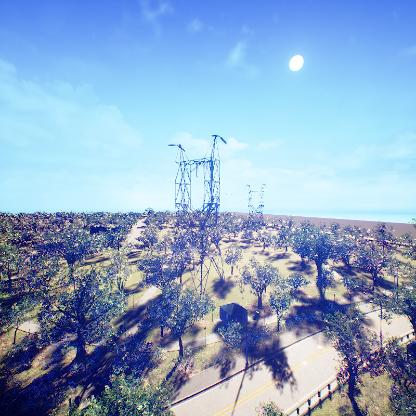tower: (163, 133, 230, 293), (244, 183, 268, 238)
